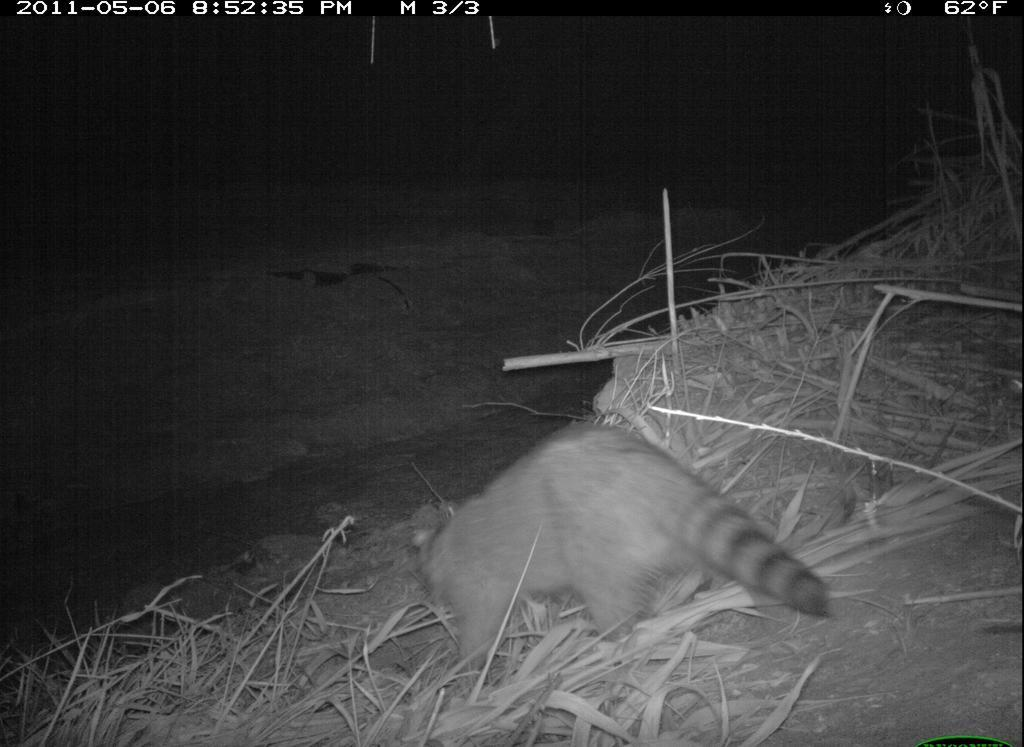raccoon: (414, 411, 835, 675)
